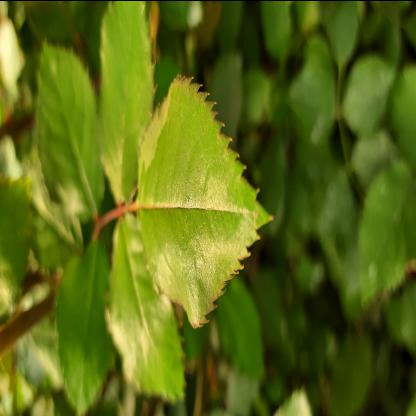normal: (106, 227, 186, 399), (96, 2, 158, 210)
powdery-mildew: (136, 74, 274, 327), (28, 38, 104, 224)
